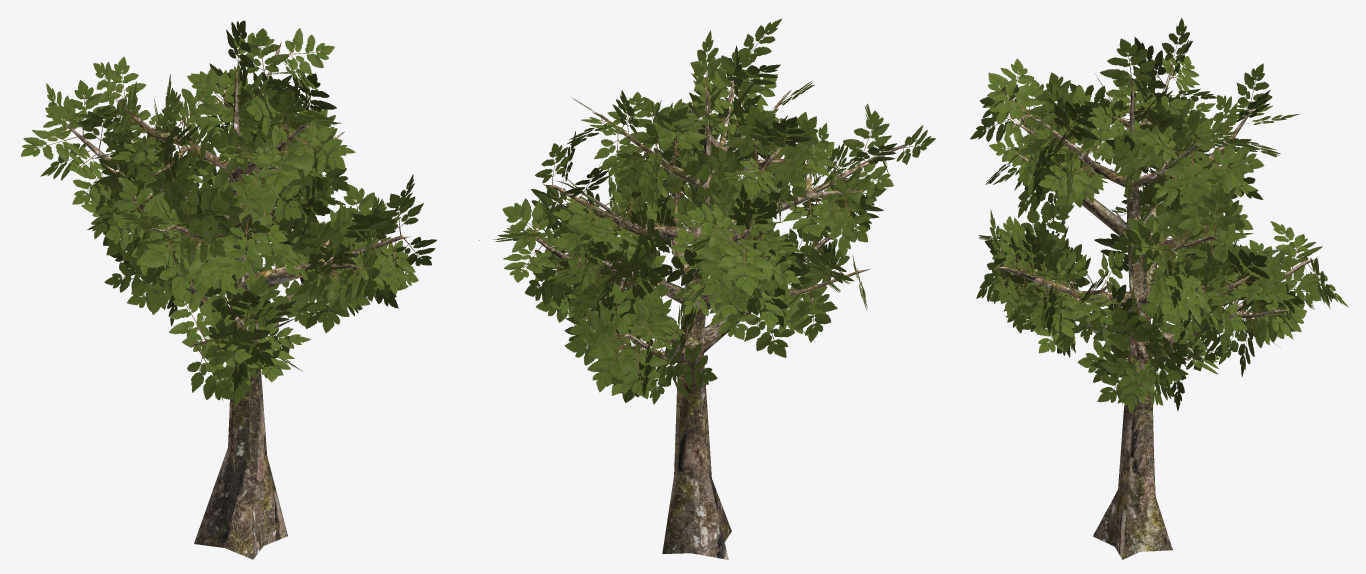
Rendered from Tree01.fbx.
The picture shows the model from 3 angles, left to right: view 1: azimuth 30°, elevation 25°; view 2: azimuth 150°, elevation 25°; view 3: azimuth 270°, elevation 25°; orthographic projection. The views are drawn at different scales.
Visible parts, largest first — view 1: Tree01; view 2: Tree01; view 3: Tree01.
Boxes of the visible parts, x1,y1,x2,y2 form: Tree01: [21, 20, 436, 559]; Tree01: [479, 19, 935, 559]; Tree01: [970, 18, 1348, 559].
Bounding box in the file's own units: 1115 × 1521 × 1051.
